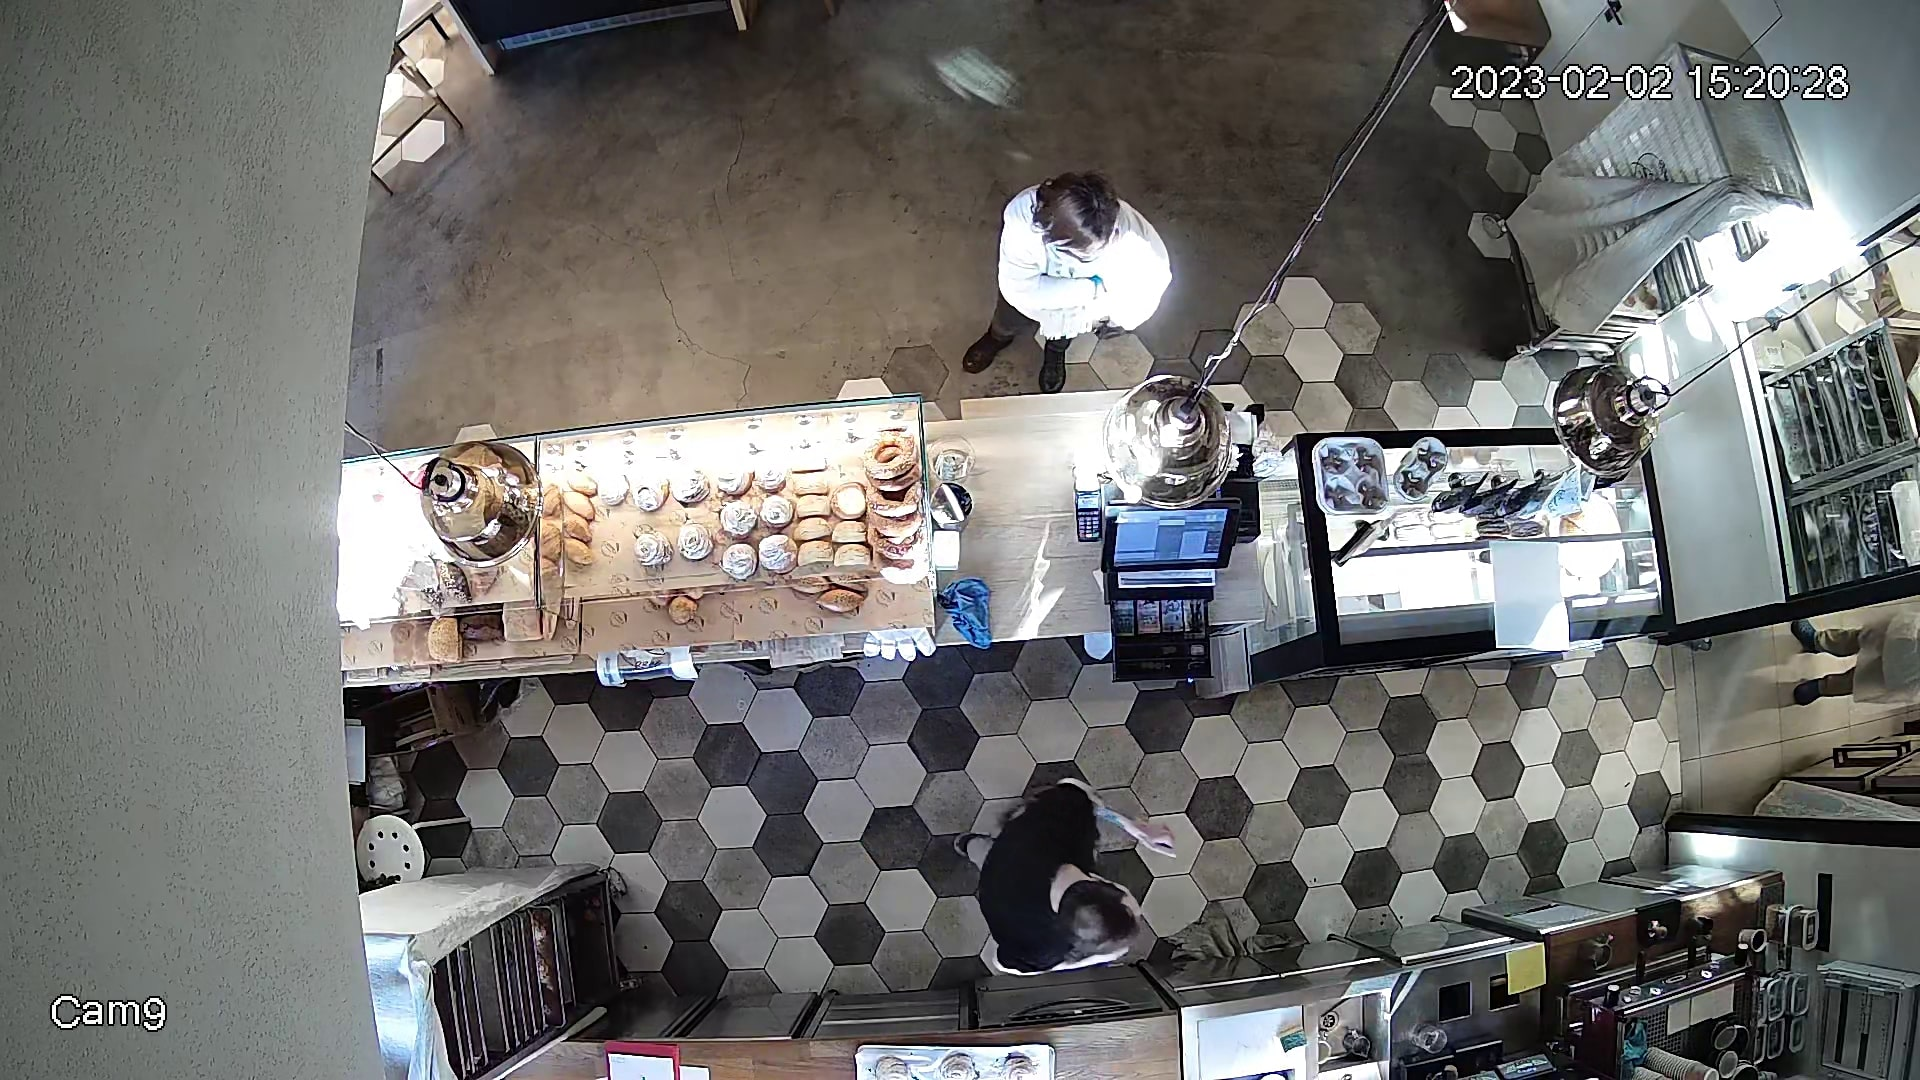barcounter: (341, 414, 1674, 626)
openedcash: (1098, 496, 1248, 686)
person: (917, 768, 1196, 968), (955, 189, 1163, 390)
